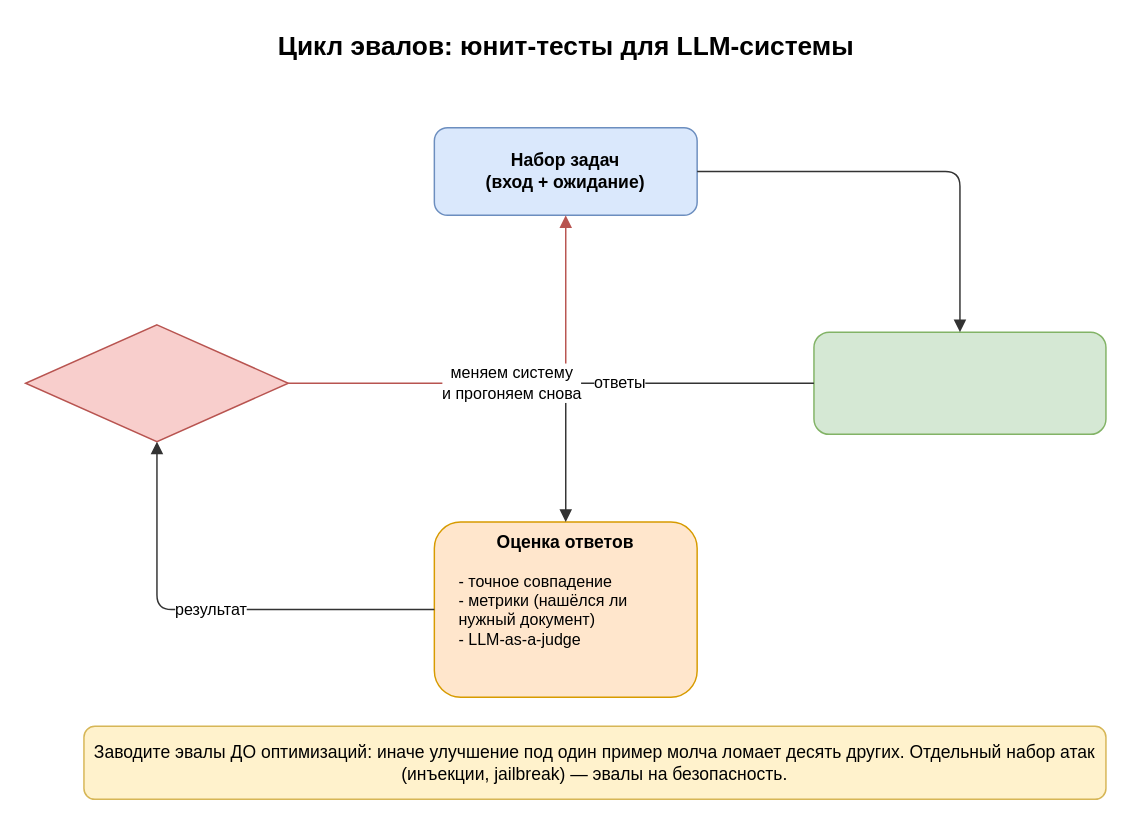
This 1132x825 diagram has some shape labels left out. The shapes that lost their labels are listed below. From the top down, each one's box as (x1, y1, x2, y2) in pixels, then its label:
(24, 323, 288, 442): Стало лучше или хуже?
(812, 331, 1106, 434): Прогон LLM-системы (промпт / модель / RAG)
